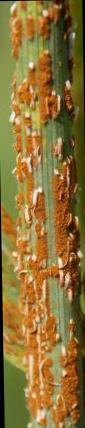Wheat: (9, 2, 83, 306), (26, 313, 85, 426)
